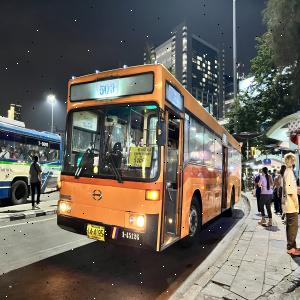BMTA-bus: (56, 64, 242, 253)
Bus Line Number: (94, 78, 122, 97)
Bus Side Number: (120, 227, 142, 243)
Destination Sign: (128, 145, 154, 170)
